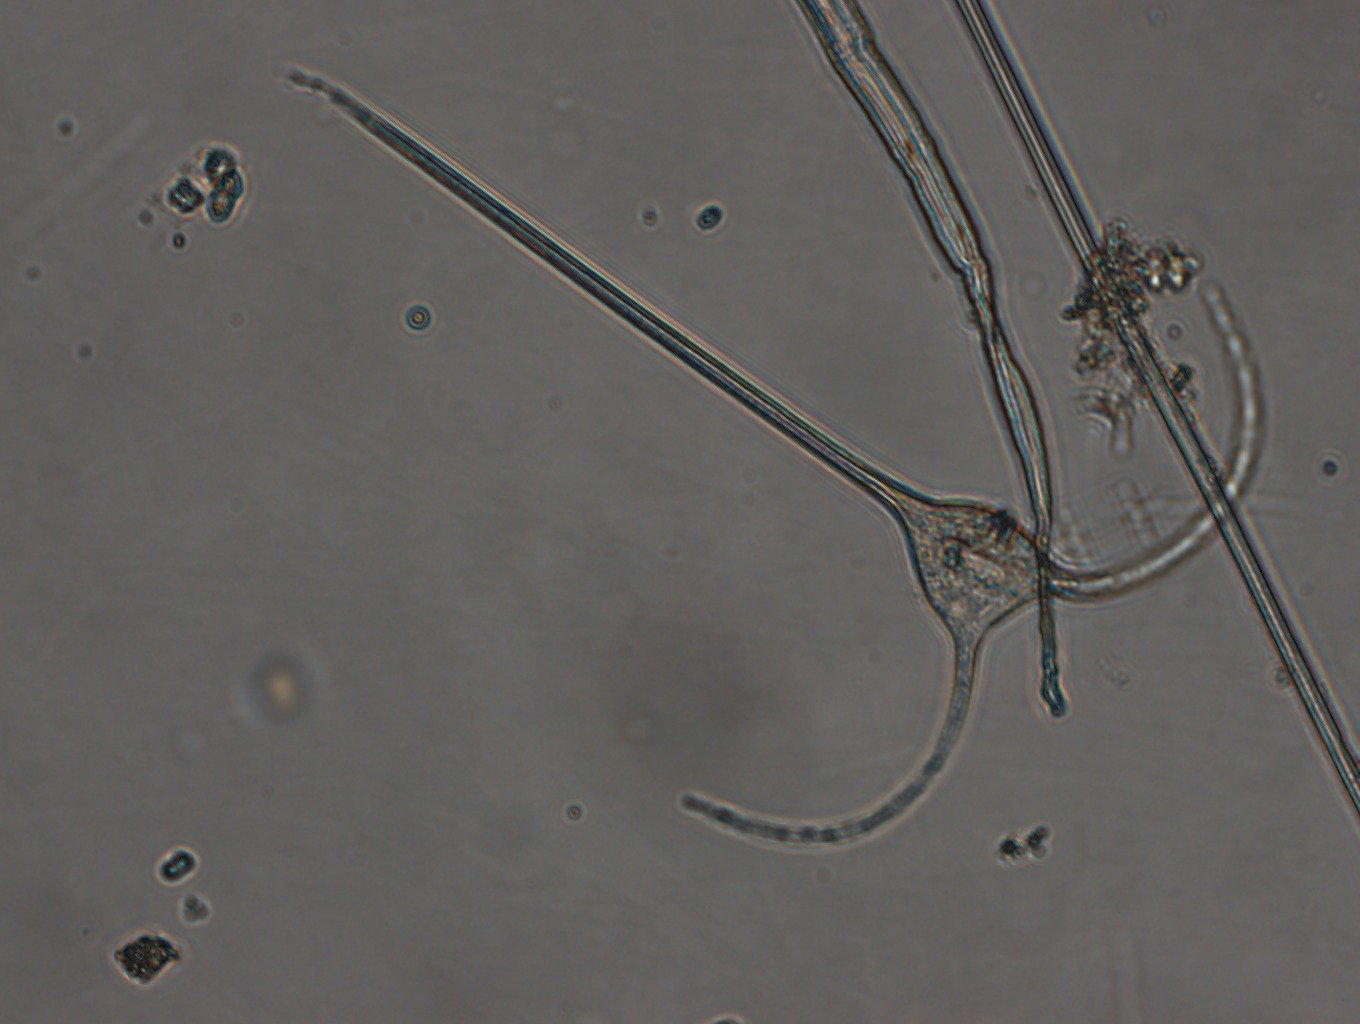ceratium trichoceros: (303, 65, 1280, 866)
